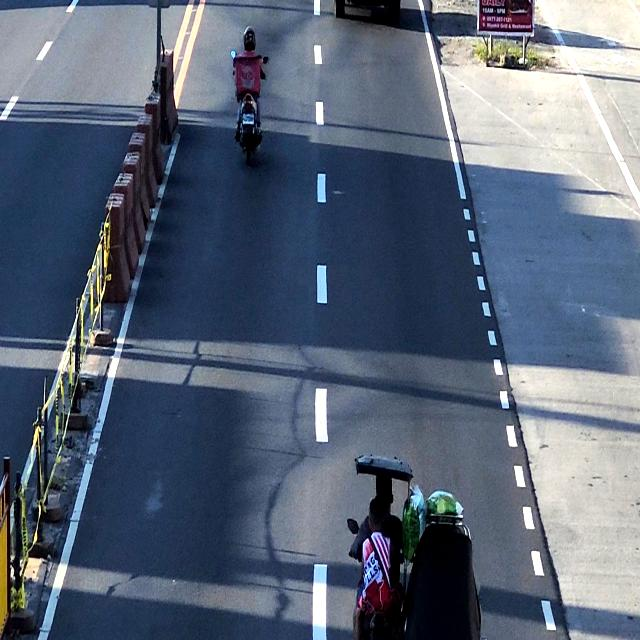License-Plate: (240, 108, 256, 126)
Motorcycle: (236, 28, 265, 161)
Tricycle: (348, 447, 479, 640)
